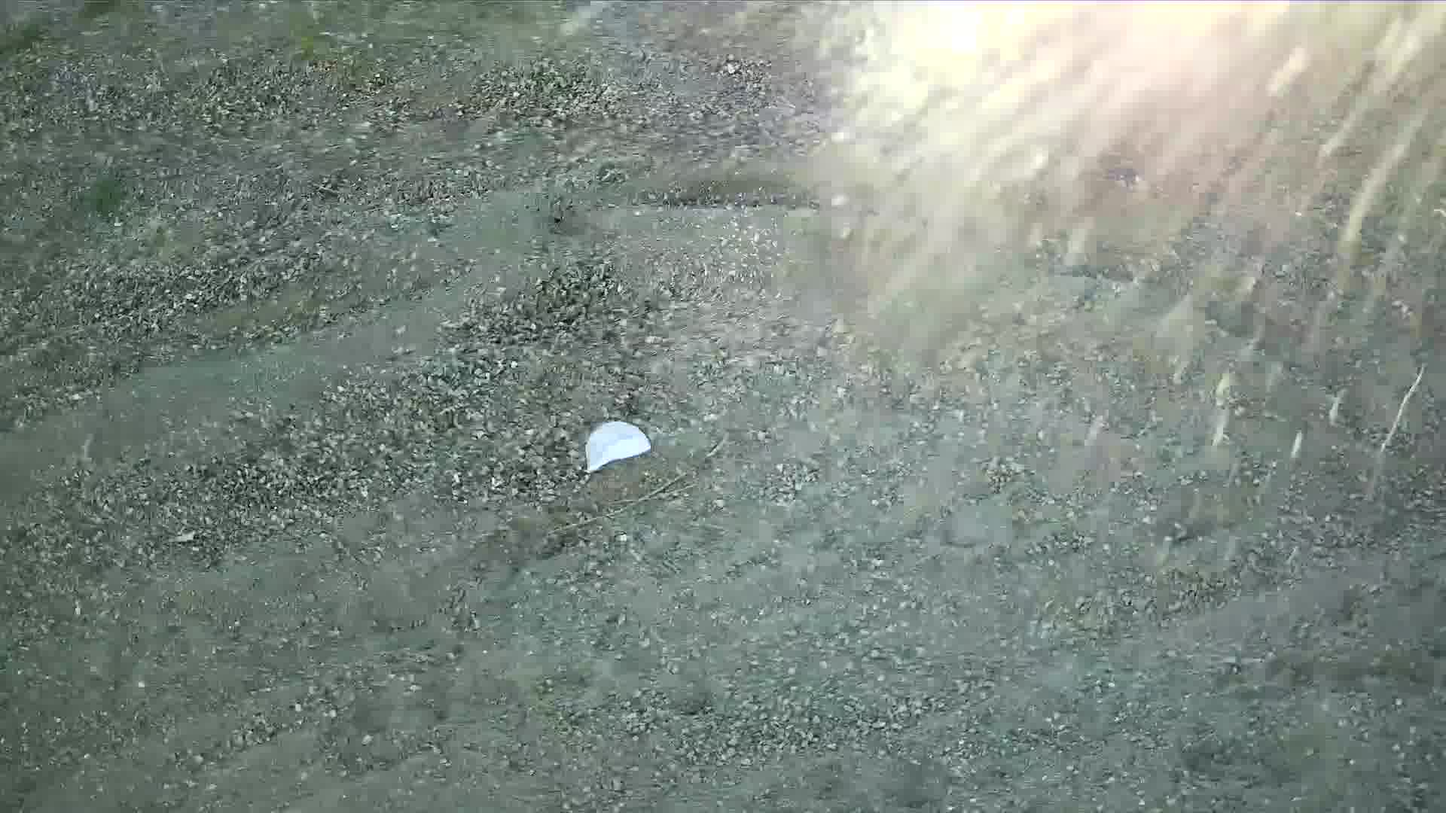Target: (579, 423, 646, 464)
